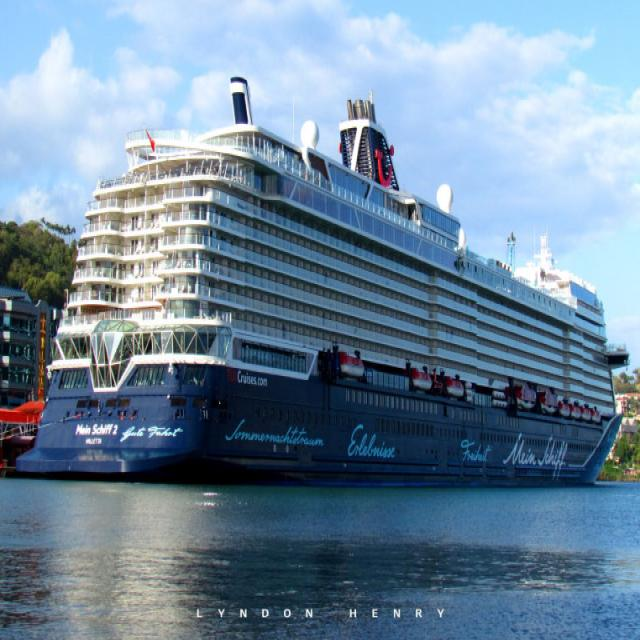cruises: (11, 72, 633, 504)
